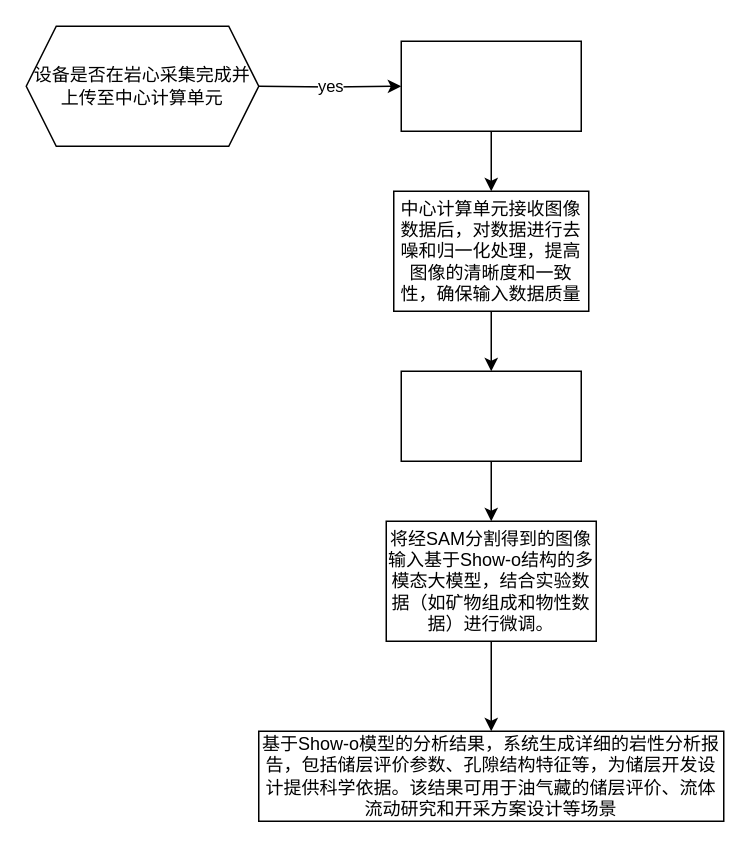
This 750x848 diagram has some shape labels left out. The shapes that lost their labels are listed below. From the top down, each one's centre as x and y in pixels, then its label:
the point at 490,85: 在滚筒扫描、CT扫描和SEM成像设备上采集岩心的多模态图像数据
the point at 490,415: 将预处理后的图像输入微调后的SAM模型，使用该模型进行智能分割。
